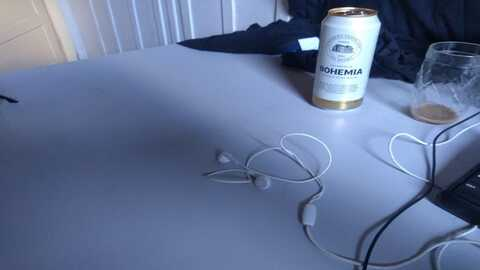bohemia: (314, 7, 382, 113)
